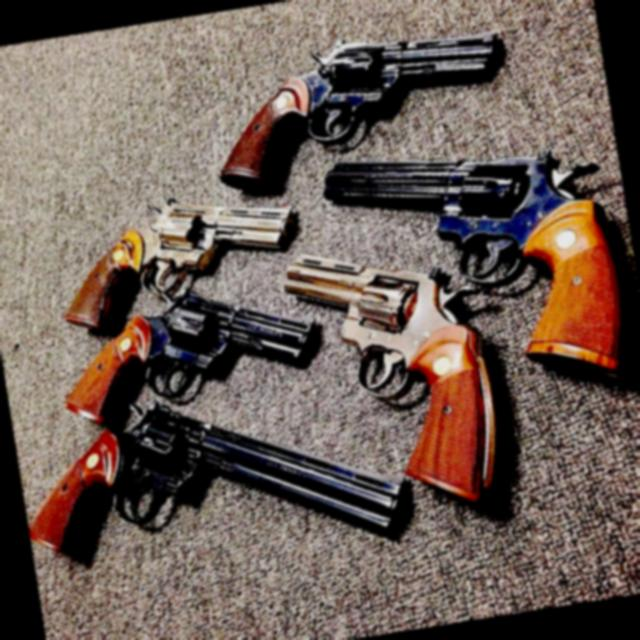revolver: (173, 0, 559, 211)
